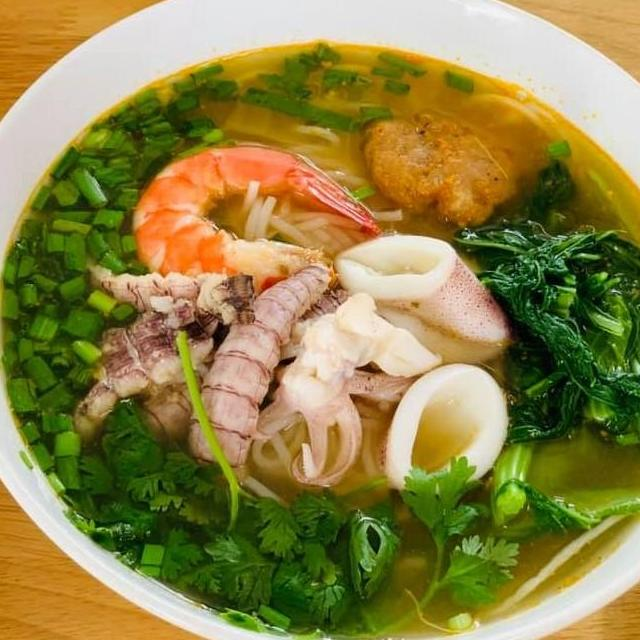bun: (222, 174, 414, 264), (246, 401, 393, 498)
bun hai san: (0, 14, 640, 640)
muc: (246, 289, 446, 486), (332, 228, 517, 372), (371, 356, 515, 504)
tom: (125, 137, 384, 300)
tom tit: (181, 256, 342, 492), (64, 296, 236, 460), (66, 245, 264, 332)
